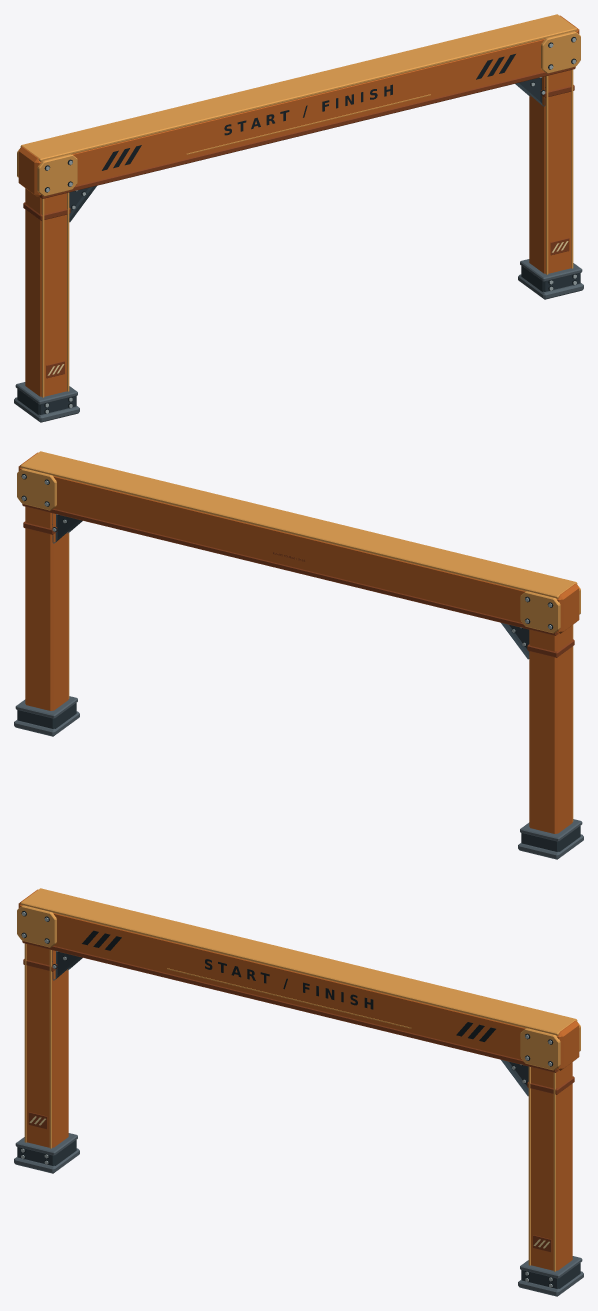
File: wsc-module-010-riding-start-gantry.glb
3 renders of one model, top to bottom at view 1: azimuth 30°, elevation 25°; view 2: azimuth 150°, elevation 25°; view 3: azimuth 330°, elevation 25°, orthographic.
Parts seen in each view (by area): view 1: wsc-module-010-riding-start-gantry; view 2: wsc-module-010-riding-start-gantry; view 3: wsc-module-010-riding-start-gantry.
Part boxes in pixels (bbox=[...]): wsc-module-010-riding-start-gantry: bbox=[14, 14, 583, 422]; wsc-module-010-riding-start-gantry: bbox=[14, 451, 583, 859]; wsc-module-010-riding-start-gantry: bbox=[14, 888, 583, 1296].
Bounding box in the file's own units: 15.2 × 6.95 × 1.3.
